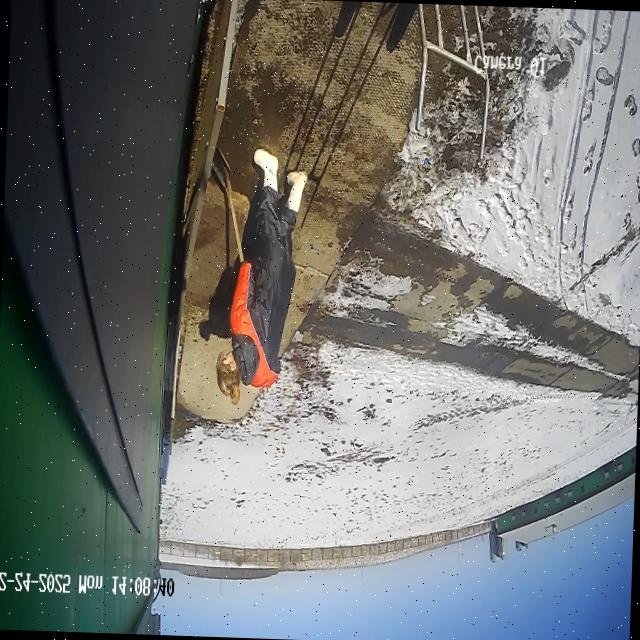Red uniform: (212, 144, 310, 409)
